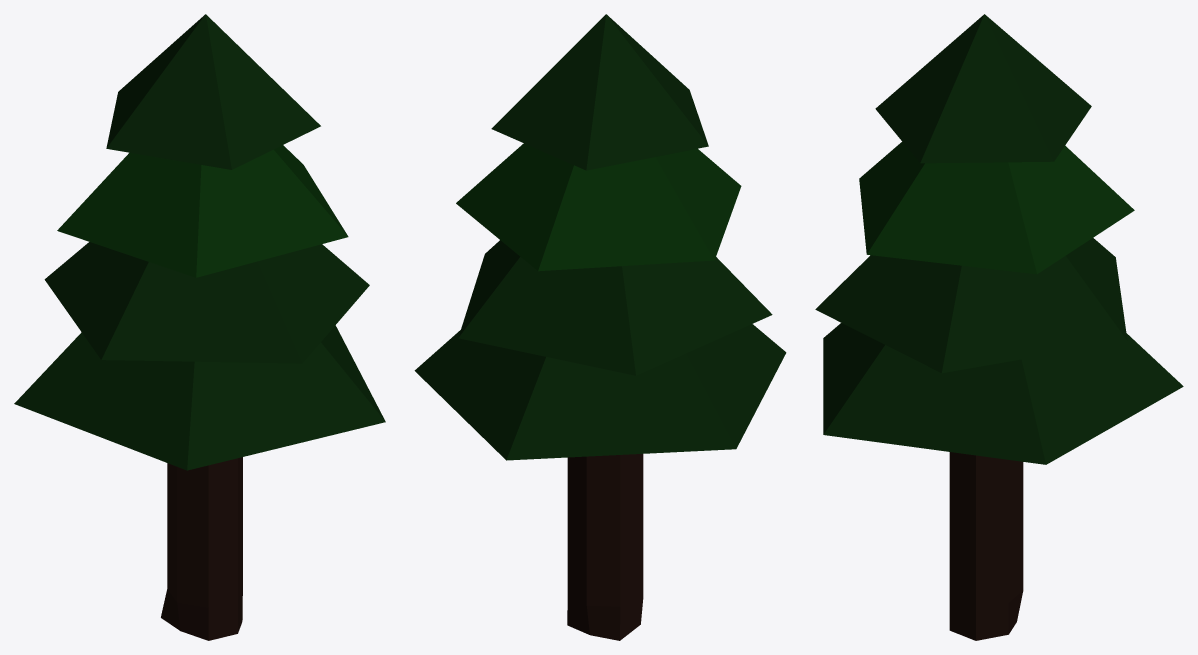
Rendered from livingtreeforest1noelle.obj.
3 renders of one model, left to right at view 1: azimuth 30°, elevation 25°; view 2: azimuth 150°, elevation 25°; view 3: azimuth 270°, elevation 25°, orthographic.
Parts seen in each view (by area): view 1: Cone.005; view 2: Cone.005; view 3: Cone.005.
Boxes of the visible parts, box(x1,y1,x2,y2) form: Cone.005: box(14, 14, 385, 640); Cone.005: box(414, 14, 786, 640); Cone.005: box(815, 14, 1183, 640).
Size of the model in its own units: 1.71 by 3.12 by 1.71.
